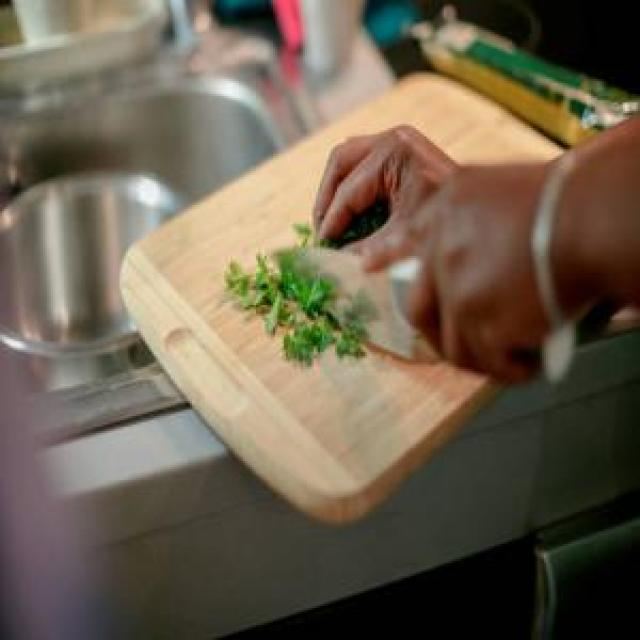knife: (267, 241, 577, 383)
